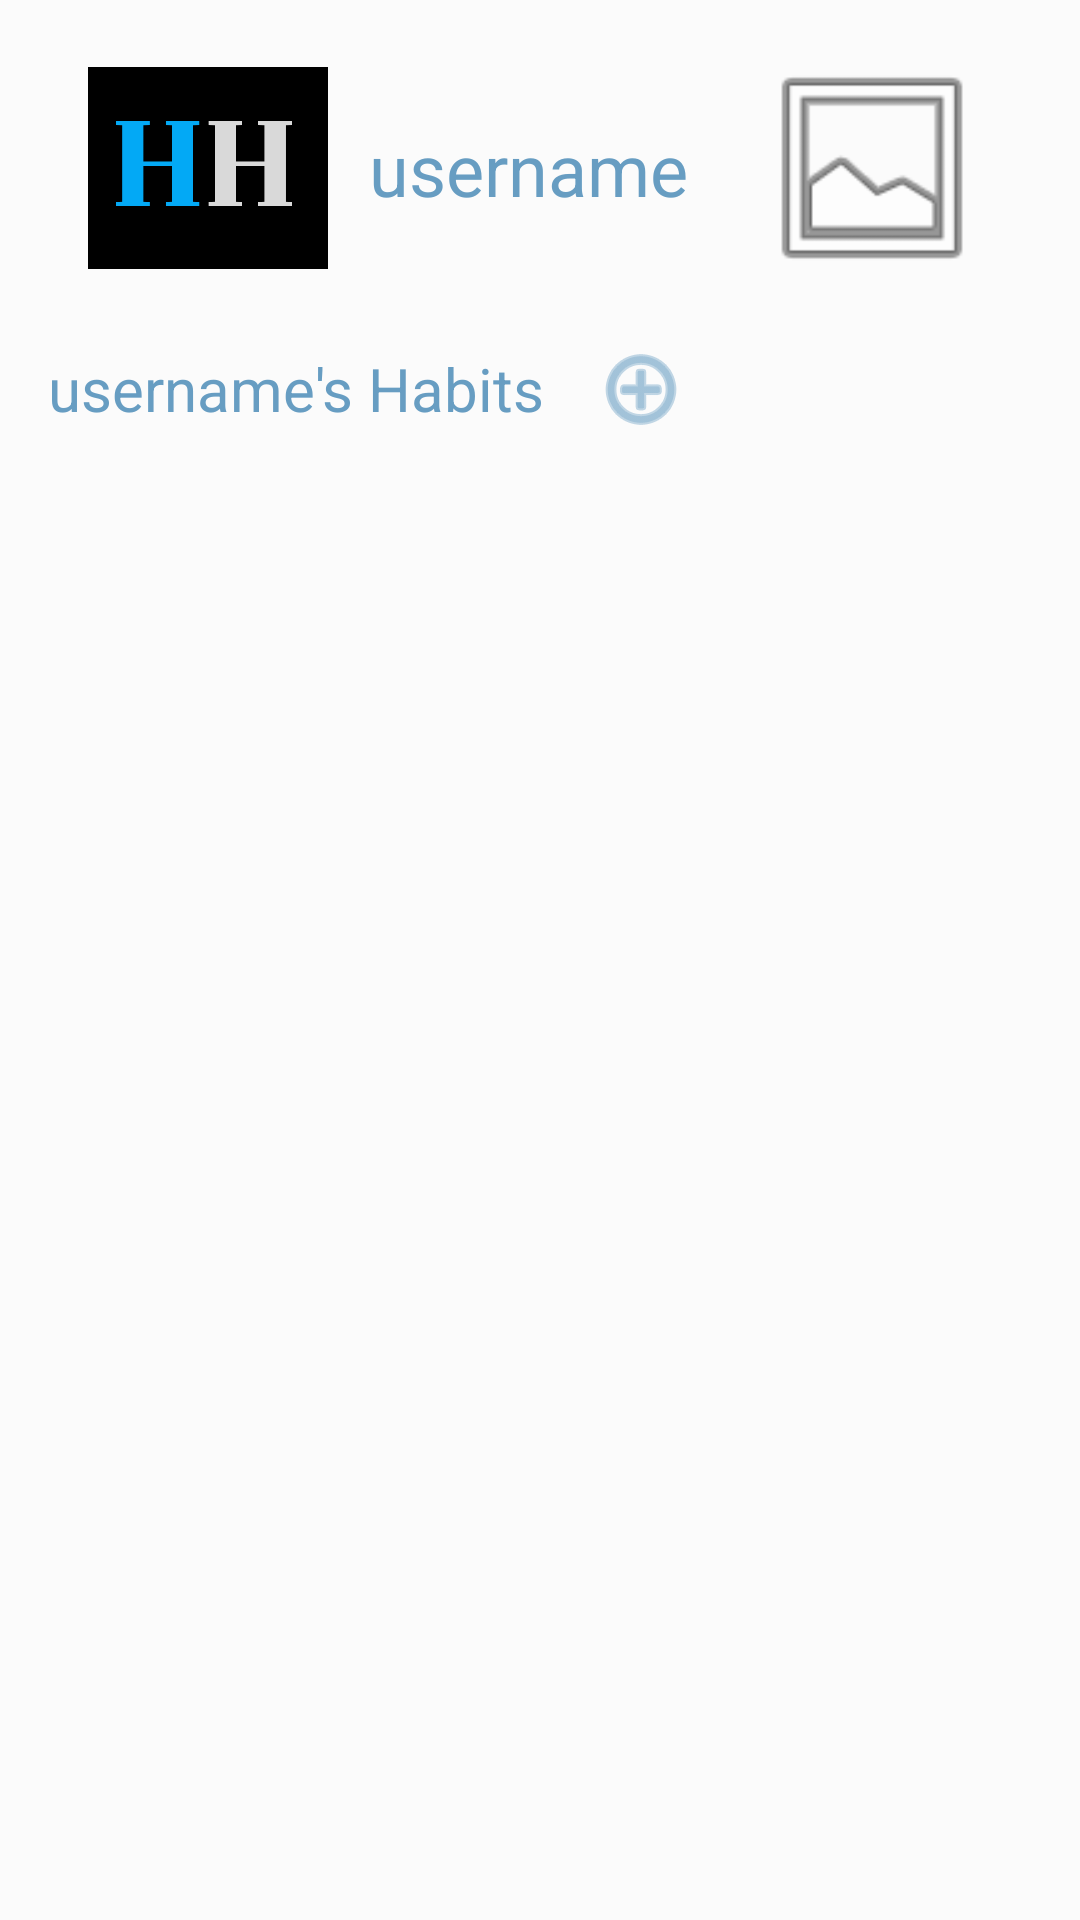

Locate icon controls on the screen. Image size 1080 × 1920, boxes as (x1, y1, x2, y2).
add: (606, 354, 676, 425)
gallery: (781, 77, 963, 259)
